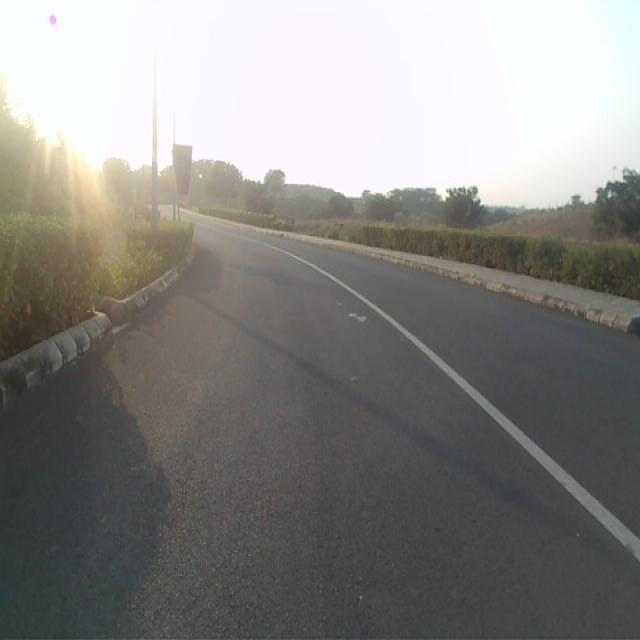lane: (0, 230, 640, 640)
